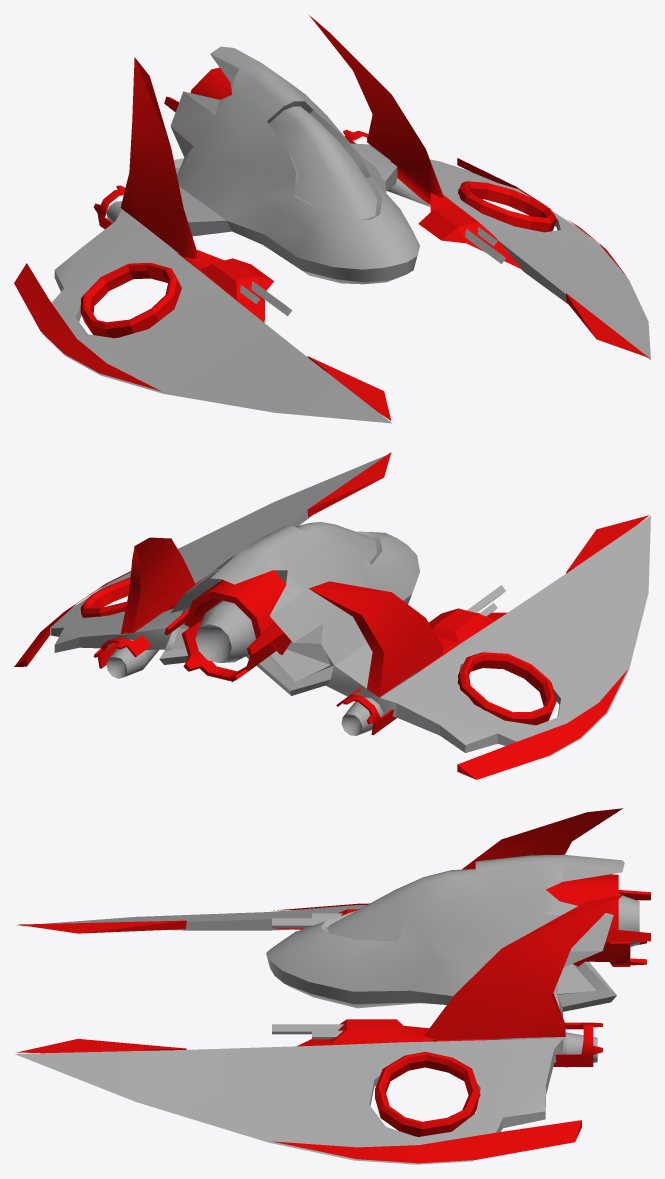
File: Kenos1.fbx
3 renders of one model, top to bottom at view 1: azimuth 30°, elevation 25°; view 2: azimuth 150°, elevation 25°; view 3: azimuth 270°, elevation 25°, orthographic.
Visible parts, largest first — view 1: kenos1_diffuse, kenos1_color; view 2: kenos1_diffuse, kenos1_color; view 3: kenos1_diffuse, kenos1_color.
Part boxes in pixels (bbox=[...]): kenos1_diffuse: bbox=[41, 46, 650, 423]; kenos1_color: bbox=[14, 15, 648, 420]; kenos1_diffuse: bbox=[50, 453, 650, 756]; kenos1_color: bbox=[14, 452, 649, 779]; kenos1_diffuse: bbox=[15, 854, 639, 1164]; kenos1_color: bbox=[17, 808, 650, 1163].
Bounding box in the file's own units: 3.87 × 1.31 × 4.07.
